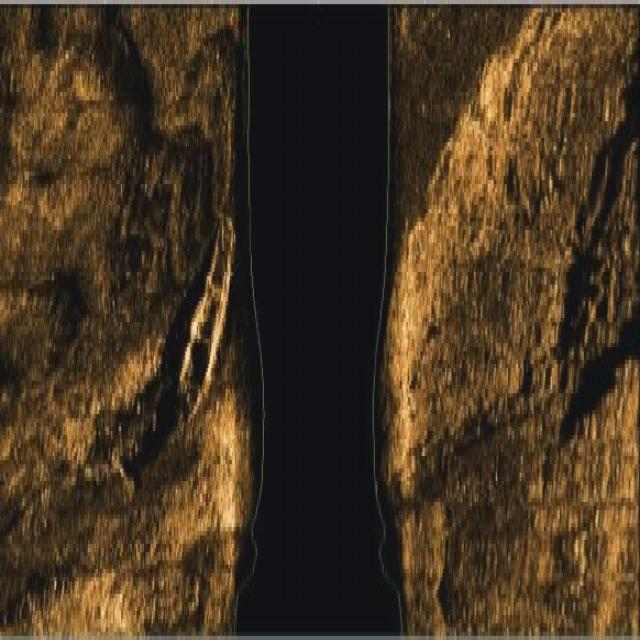ship: (170, 192, 238, 418)
